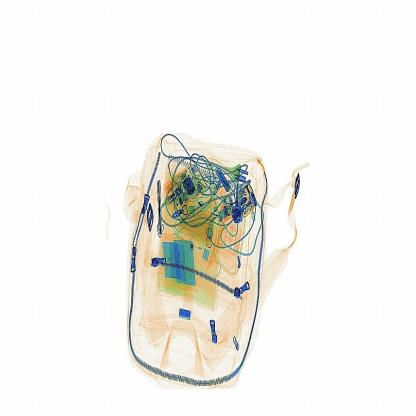knife: (154, 180, 168, 236)
